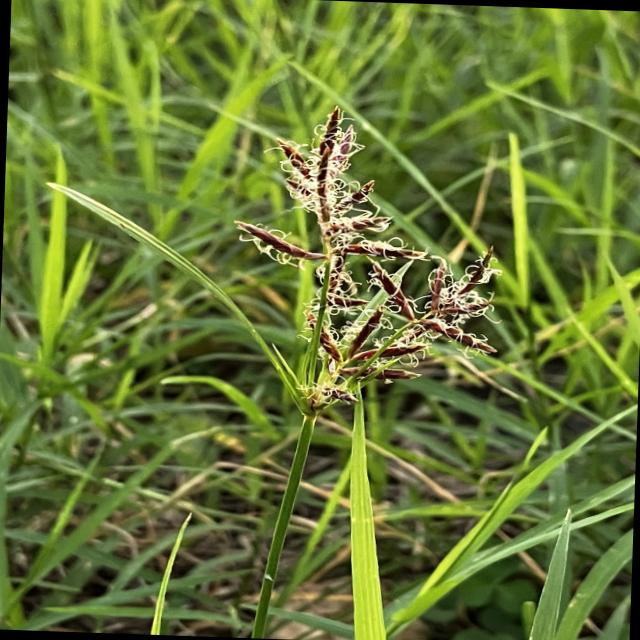cyperus: (223, 100, 524, 438)
